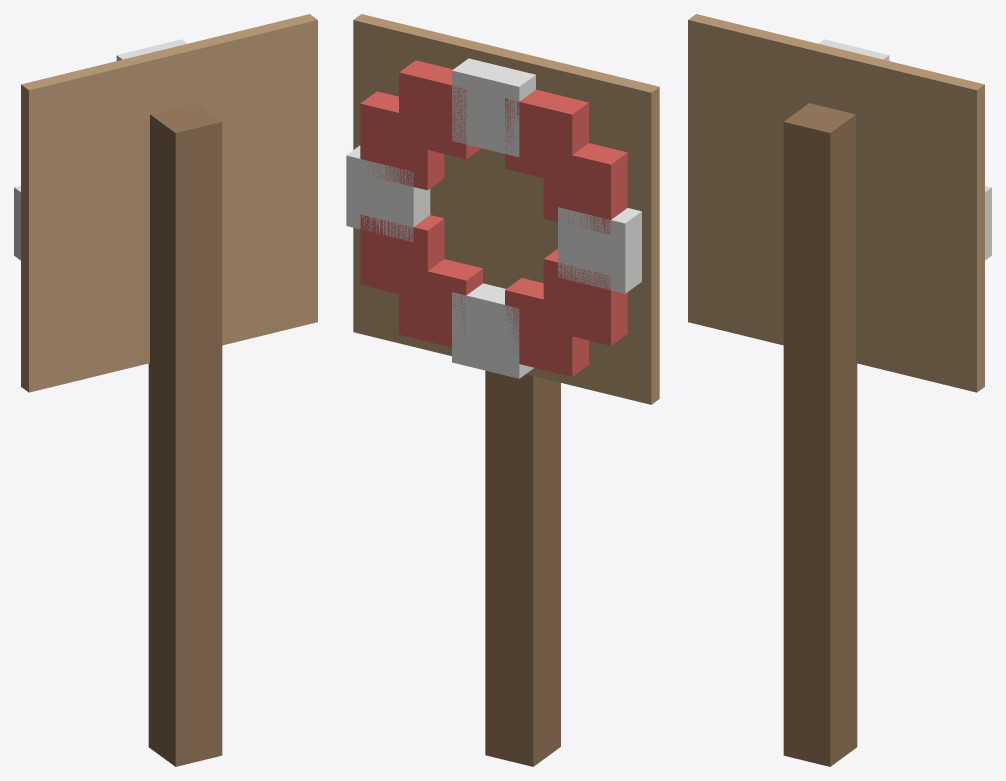
Rendered from life_ring.glb.
3 views of the same model, side by side, from view 1: azimuth 30°, elevation 25°; view 2: azimuth 150°, elevation 25°; view 3: azimuth 330°, elevation 25° (orthographic). The views are drawn at different scales.
Visible parts, largest first — view 1: life_ring; view 2: life_ring; view 3: life_ring.
Boxes of the visible parts, box(x1,y1,x2,y2) form: life_ring: box(14, 14, 317, 766); life_ring: box(346, 14, 659, 766); life_ring: box(688, 14, 991, 766).
Bounding box in the file's own units: 0.62 × 1.41 × 0.185.
